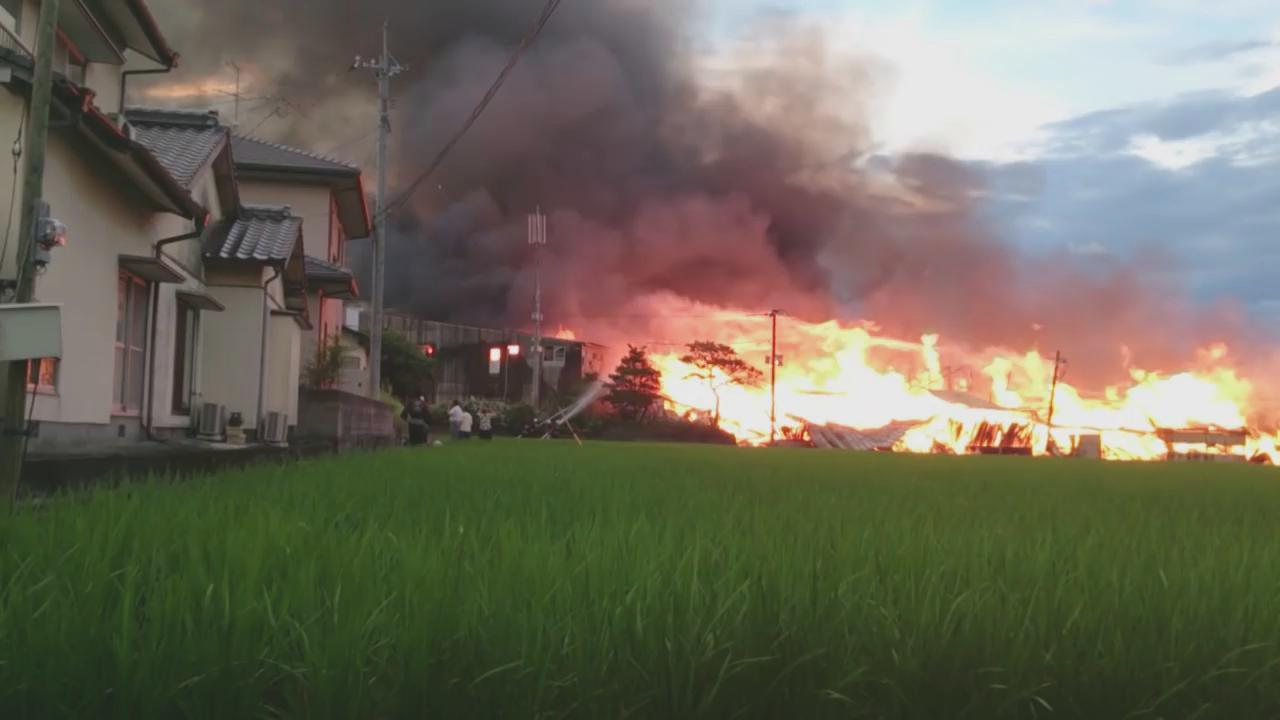fire: (696, 359, 1251, 455)
smoke: (355, 13, 809, 298)
